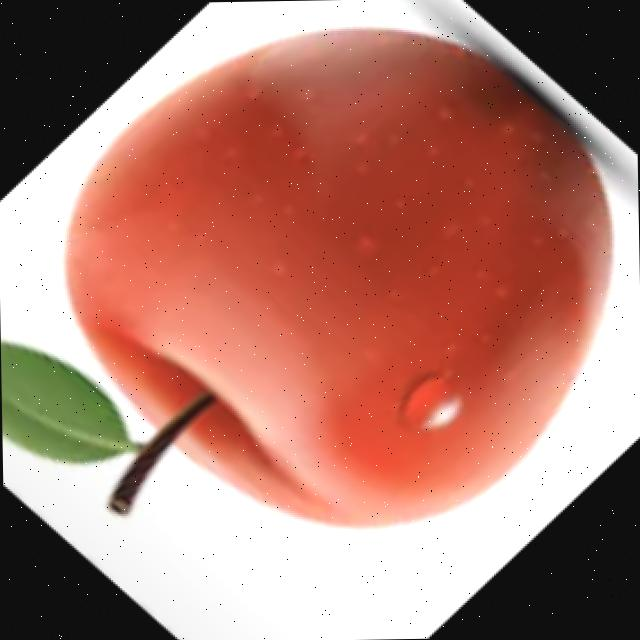Ripe: (50, 17, 627, 543)
